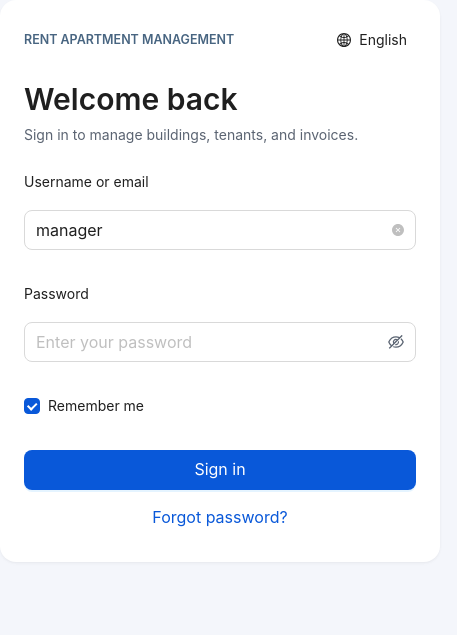
it: LoginForm › requires a password before submitting credentials
Click the button "Sign in" at (220, 470), box [24,450,416,490]
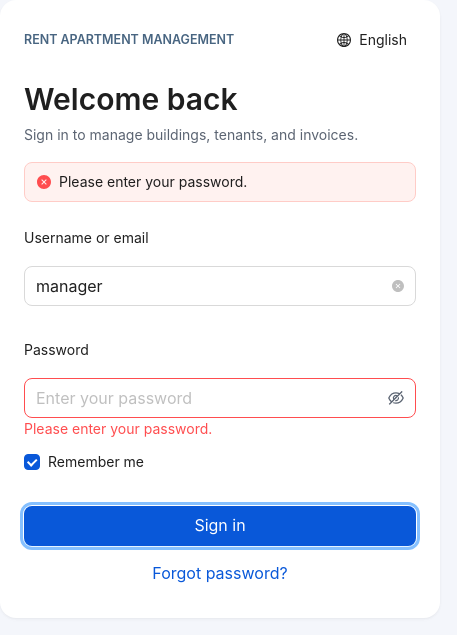
Check: the 1st text "Please enter your password." is shown, box [59,173,247,190]
